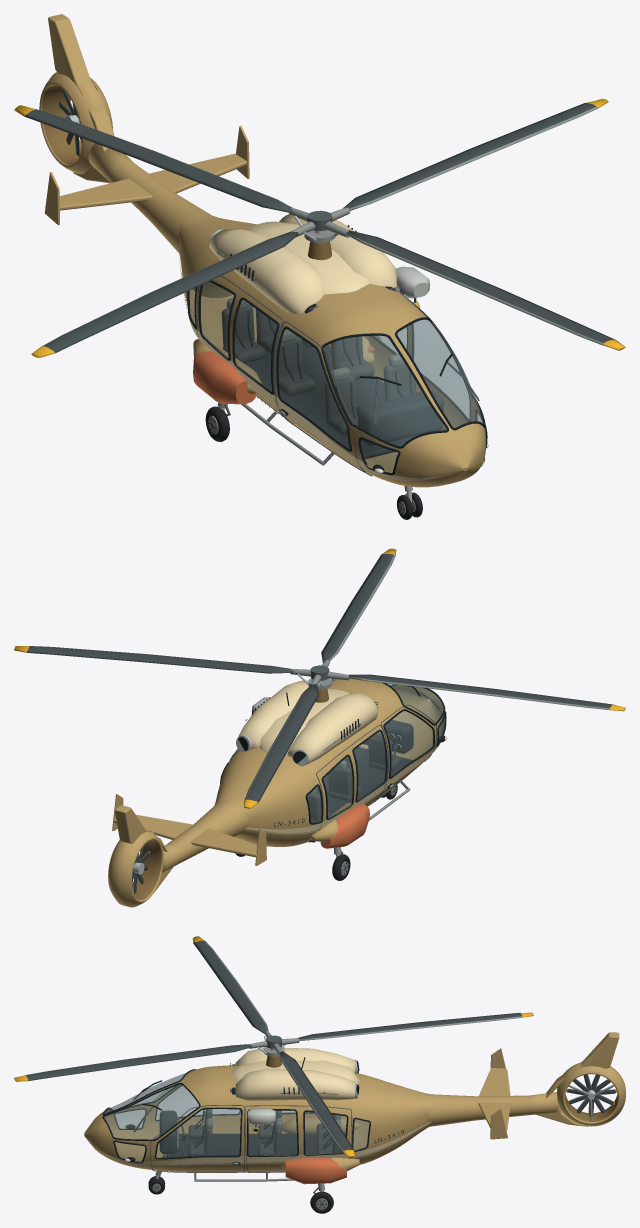
The model's file is Dauphin-2.glb.
3 views of the same model, one above another, from view 1: azimuth 30°, elevation 25°; view 2: azimuth 150°, elevation 25°; view 3: azimuth 270°, elevation 25° (orthographic). The views are drawn at different scales.
Parts seen in each view (by area): view 1: 01 | monocoque and doors | surfaces, MainRotor | surfaces, 04 | tail cone and stabilizers | surfaces, 02 | crew and passenger cabin | surfaces, 03 | twin engines and transmission | surfaces, DAUPHIN fitted exterior, 05 | undercarriage extended | surfaces; view 2: 01 | monocoque and doors | surfaces, MainRotor | surfaces, 04 | tail cone and stabilizers | surfaces, 03 | twin engines and transmission | surfaces, 02 | crew and passenger cabin | surfaces, DAUPHIN fitted exterior, 05 | undercarriage extended | surfaces; view 3: 01 | monocoque and doors | surfaces, 04 | tail cone and stabilizers | surfaces, MainRotor | surfaces, 03 | twin engines and transmission | surfaces, 02 | crew and passenger cabin | surfaces, DAUPHIN fitted exterior, 05 | undercarriage extended | surfaces, FenestronRotor | surfaces.
Part boxes in pixels (x1,y1,x2,y2): 01 | monocoque and doors | surfaces: [178, 215, 488, 487]; MainRotor | surfaces: [14, 98, 625, 357]; 04 | tail cone and stabilizers | surfaces: [39, 14, 249, 297]; 02 | crew and passenger cabin | surfaces: [221, 298, 446, 458]; 03 | twin engines and transmission | surfaces: [209, 214, 396, 314]; DAUPHIN fitted exterior: [193, 266, 429, 404]; 05 | undercarriage extended | surfaces: [193, 336, 422, 519]; 01 | monocoque and doors | surfaces: [214, 678, 447, 846]; MainRotor | surfaces: [14, 548, 625, 808]; 04 | tail cone and stabilizers | surfaces: [108, 794, 266, 907]; 03 | twin engines and transmission | surfaces: [236, 678, 378, 766]; 02 | crew and passenger cabin | surfaces: [307, 720, 413, 842]; DAUPHIN fitted exterior: [252, 697, 369, 848]; 05 | undercarriage extended | surfaces: [235, 785, 397, 880]; 01 | monocoque and doors | surfaces: [84, 1065, 434, 1181]; 04 | tail cone and stabilizers | surfaces: [424, 1032, 625, 1139]; MainRotor | surfaces: [14, 936, 533, 1157]; 03 | twin engines and transmission | surfaces: [230, 1046, 359, 1100]; 02 | crew and passenger cabin | surfaces: [159, 1109, 345, 1157]; DAUPHIN fitted exterior: [248, 1108, 346, 1184]; 05 | undercarriage extended | surfaces: [148, 1117, 359, 1213]; FenestronRotor | surfaces: [566, 1074, 616, 1116].
Size of the model in its own units: 11.23 by 3.78 by 13.22.
